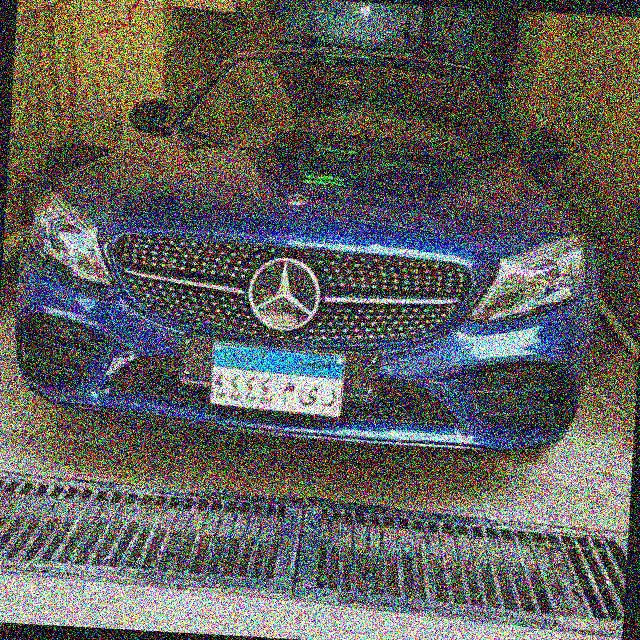License Plate: (207, 341, 348, 421)
